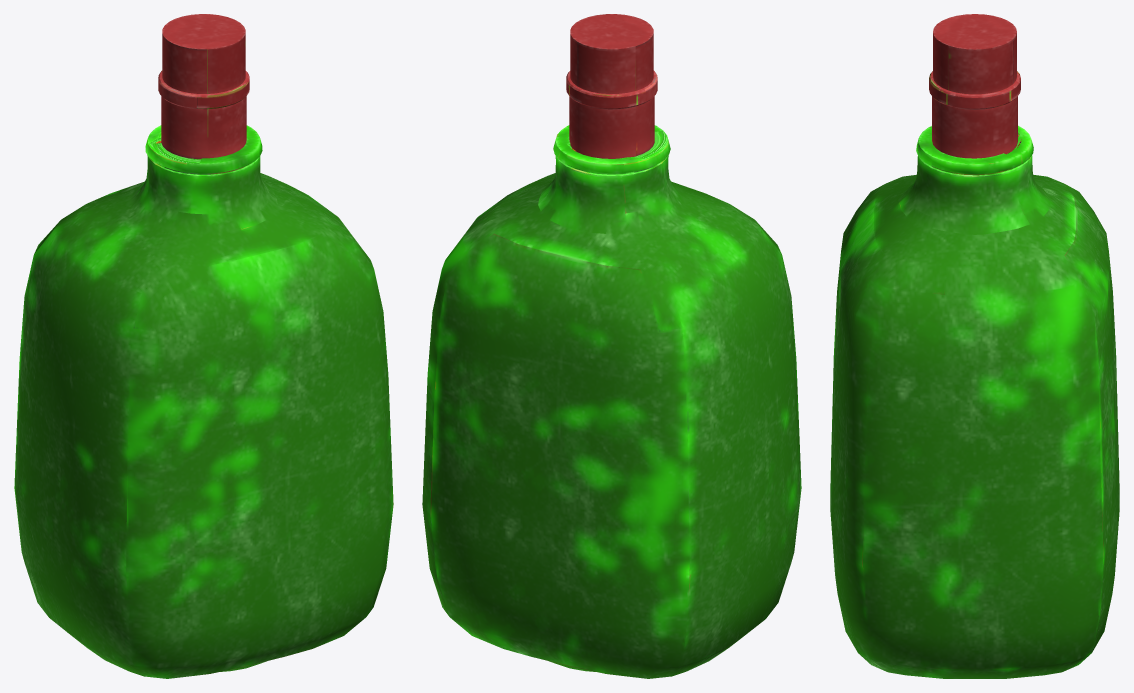
The model's file is Whisky 1 .fbx.
3 renders of one model, left to right at view 1: azimuth 30°, elevation 25°; view 2: azimuth 150°, elevation 25°; view 3: azimuth 270°, elevation 25°, orthographic.
Visible parts, largest first — view 1: Cube.004; view 2: Cube.004; view 3: Cube.004.
Boxes of the visible parts, left/top/right/bottom form: Cube.004: left=14, top=14, right=393, bottom=678; Cube.004: left=422, top=14, right=801, bottom=678; Cube.004: left=830, top=14, right=1119, bottom=678.
Bounding box in the file's own units: 16.67 × 31.82 × 13.64.
